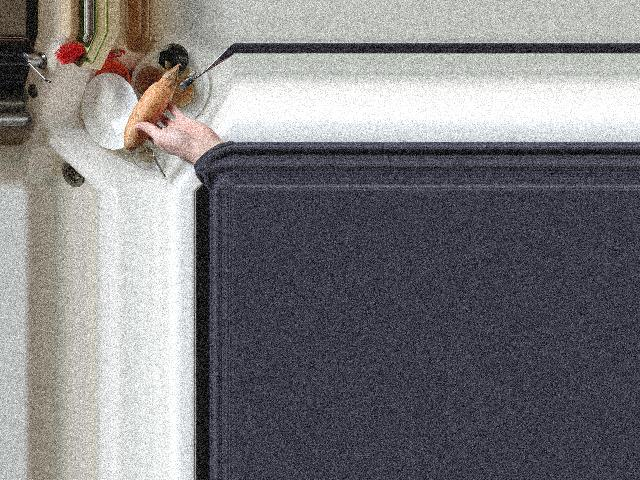sweet_potato: (121, 65, 183, 151)
